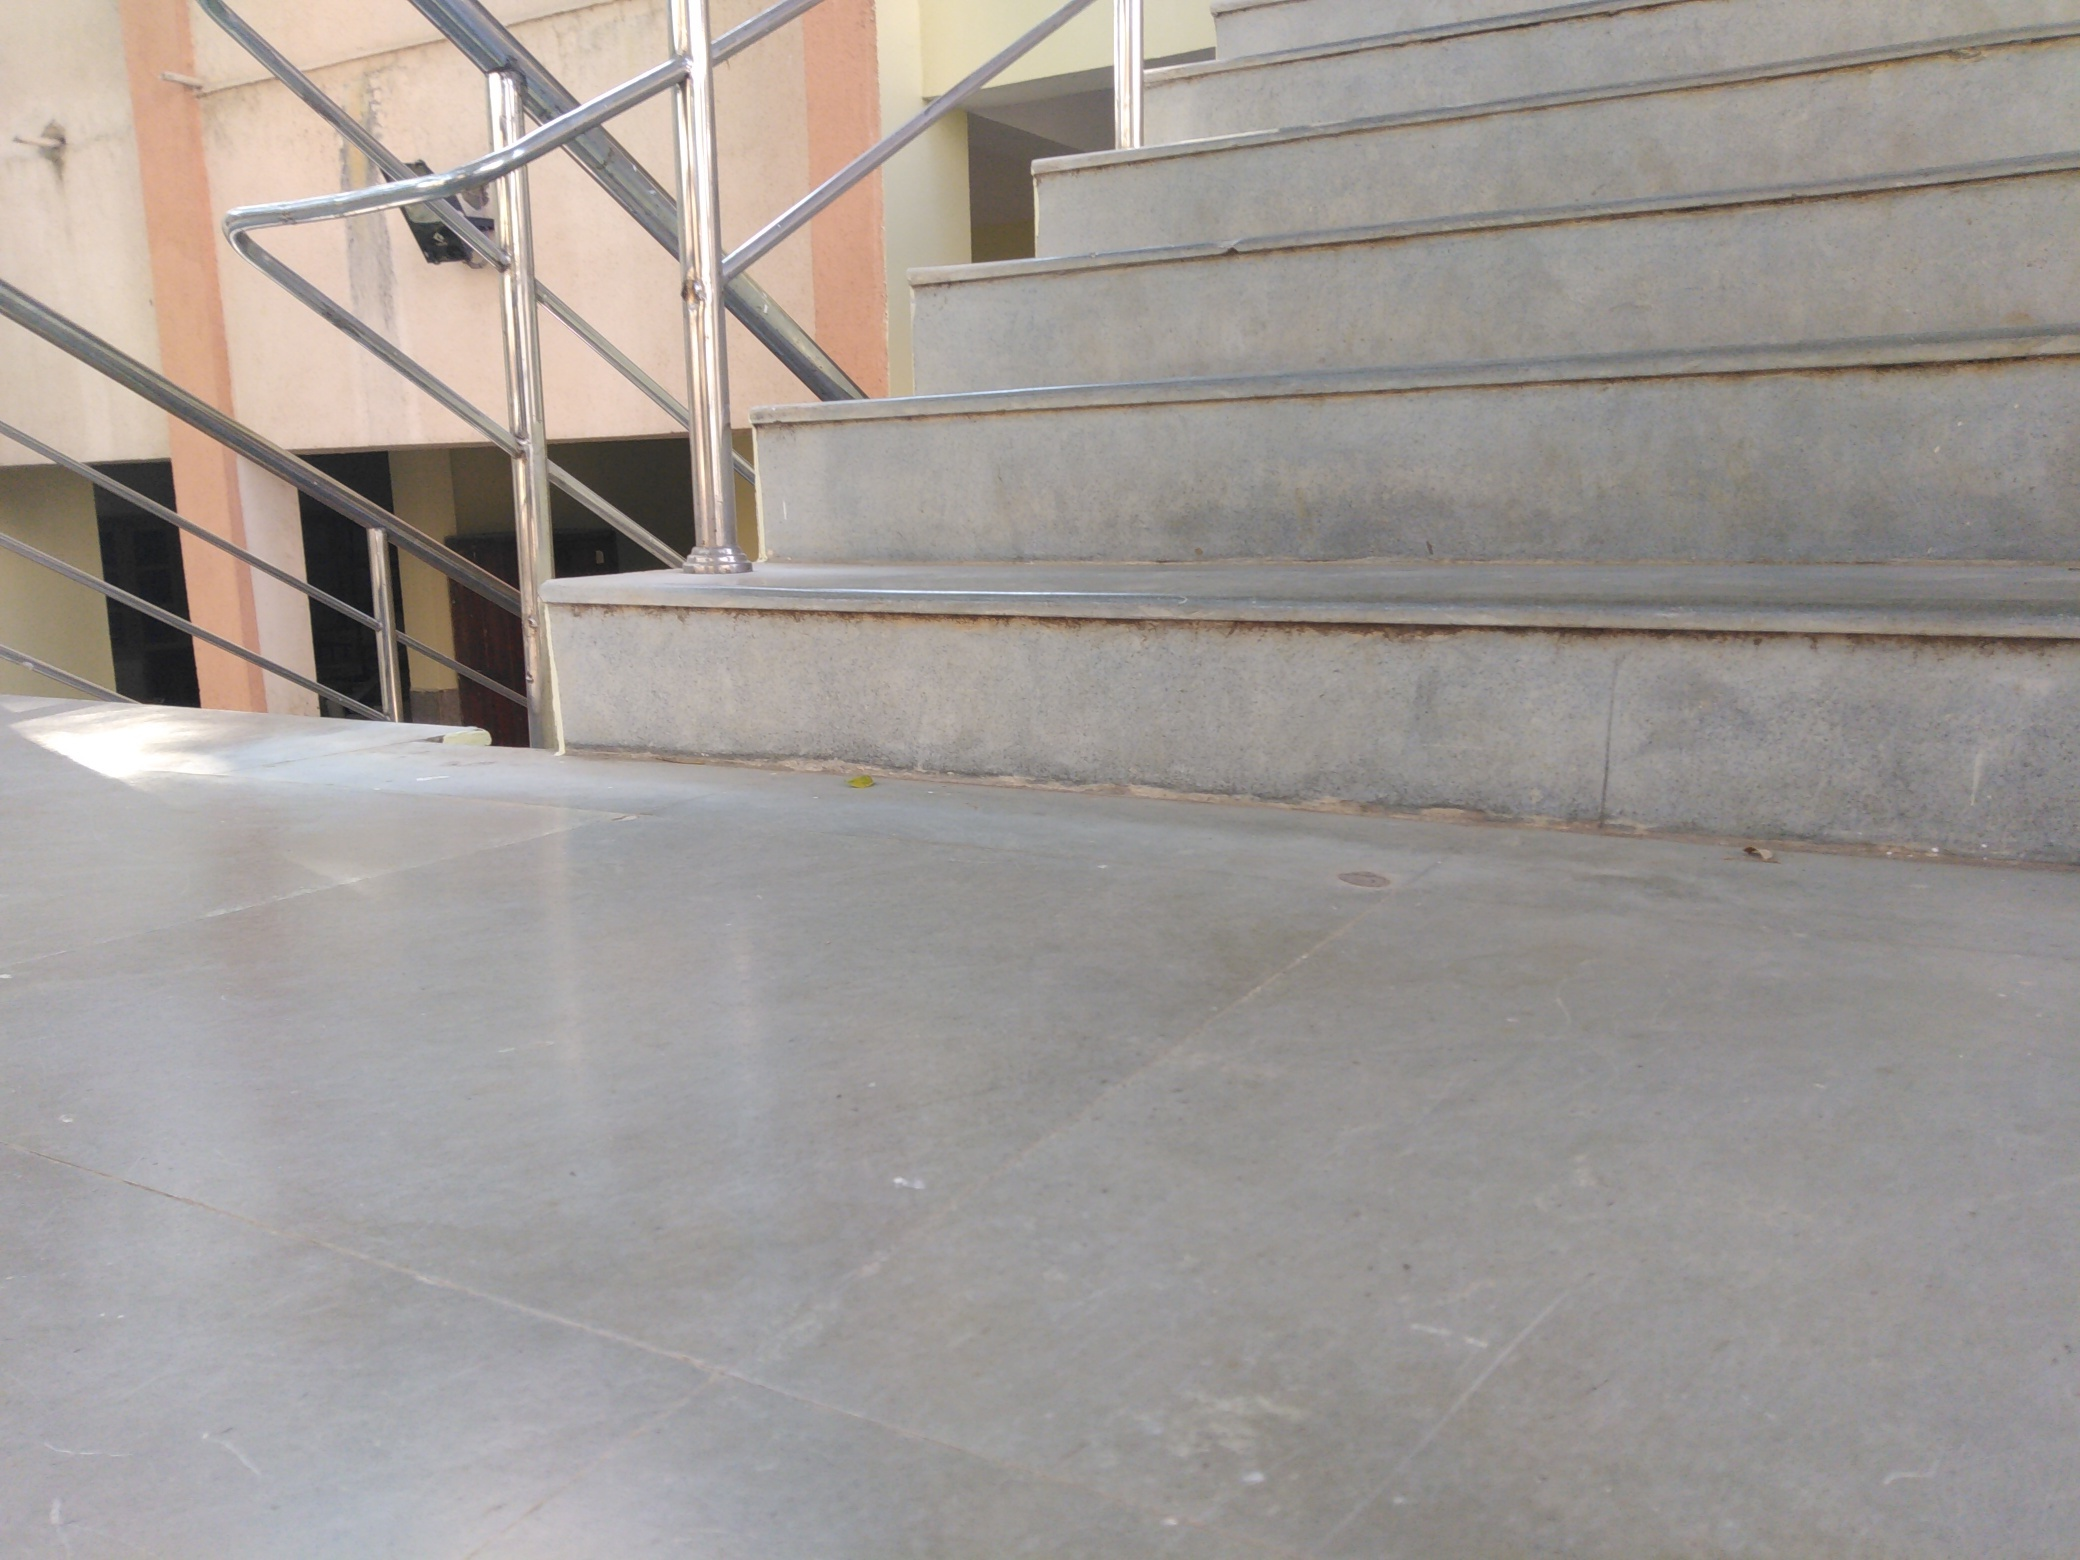stairs_up: (536, 26, 2065, 868)
